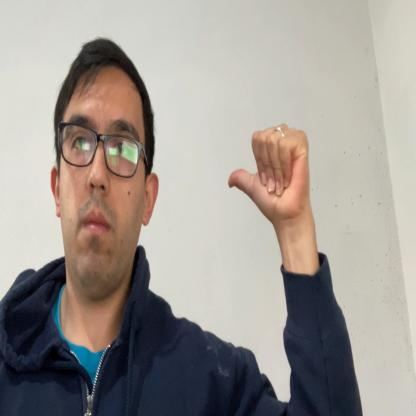A: (228, 124, 310, 222)
